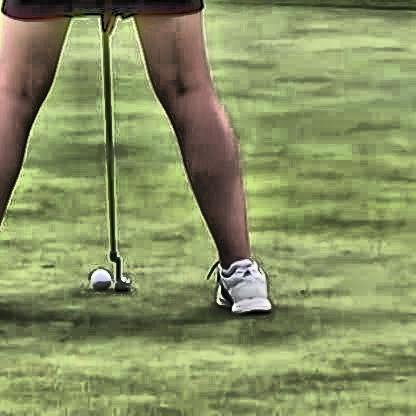golfball: (86, 265, 111, 289)
